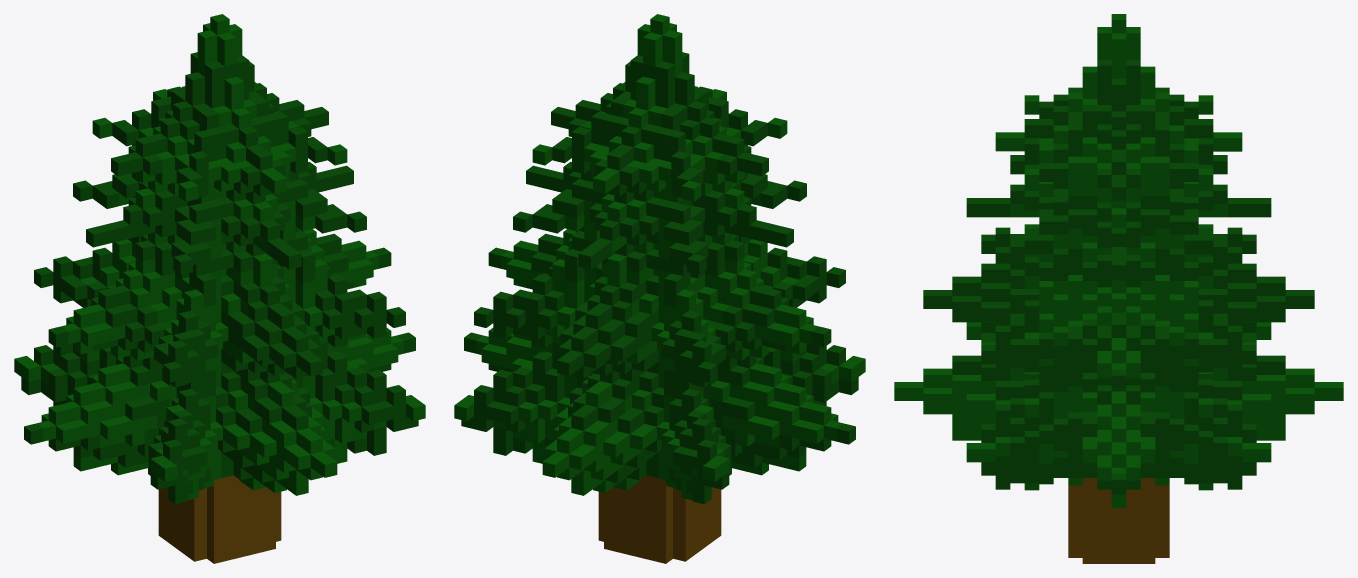
The model's file is Tree 1.fbx.
The picture shows the model from 3 angles, left to right: view 1: azimuth 30°, elevation 25°; view 2: azimuth 150°, elevation 25°; view 3: azimuth 270°, elevation 25°; orthographic projection.
Parts seen in each view (by area): view 1: Tree 1; view 2: Tree 1; view 3: Tree 1.
Boxes of the visible parts, x1,y1,x2,y2 form: Tree 1: (14,14,425,563); Tree 1: (454,14,865,563); Tree 1: (894,14,1343,563).
Bounding box in the file's own units: 310 × 400 × 310.
